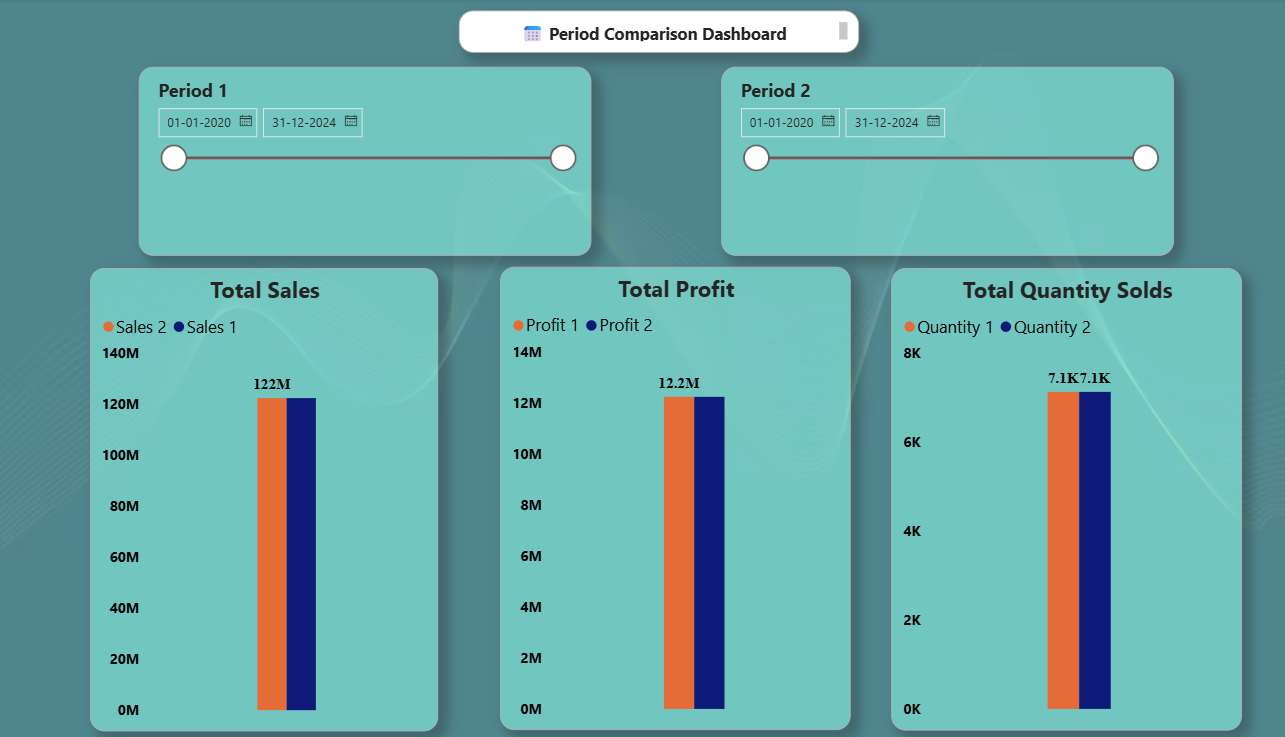

The dashboard page shown, as its layout file describes it:
{"tool":"powerbi","page":{"name":"Period Comparison Dashboard","canvas":[1280,720],"ordinal":2},"visuals":[{"type":"textbox","box":[457.2,12.1,386.1,41],"z":0},{"type":"slicer","fields":{"Values":["date table 1.Date"]},"box":[148.4,66.4,436.7,182.2],"z":1000},{"type":"slicer","fields":{"Values":["Date Table 2.Date"]},"box":[710.6,66.4,436.7,182.2],"z":2000},{"type":"clusteredColumnChart","title":"Total Sales","fields":{"Y":["date table 1.Sum of Net Sales","Sum(Fact Table.Net Sales  )"]},"box":[101.5,260.5,336.3,447.6],"z":3000},{"type":"clusteredColumnChart","title":"Total Profit","fields":{"Y":["Sum(Fact Table.Profit )","Measures Table.Total Profit"]},"box":[496.5,259.3,338.7,447.6],"z":4000},{"type":"clusteredColumnChart","title":"Total Quantity Solds","fields":{"Y":["Sum(Fact Table.Units Sold)","Measures Table.Total Quantity"]},"box":[874.3,260.5,338.7,446.3],"z":5000}]}

Visuals, with their boxes in screenshot pixels (x1, y1, x2, y2), scaled from the page's 1280x720 canvas onto the 1285x737 screenshot:
textbox: [left=459, top=12, right=847, bottom=54]
slicer - date table 1.Date: [left=149, top=68, right=587, bottom=254]
slicer - Date Table 2.Date: [left=713, top=68, right=1152, bottom=254]
"Total Sales" clusteredColumnChart: [left=102, top=267, right=440, bottom=725]
"Total Profit" clusteredColumnChart: [left=498, top=265, right=838, bottom=724]
"Total Quantity Solds" clusteredColumnChart: [left=878, top=267, right=1218, bottom=723]
